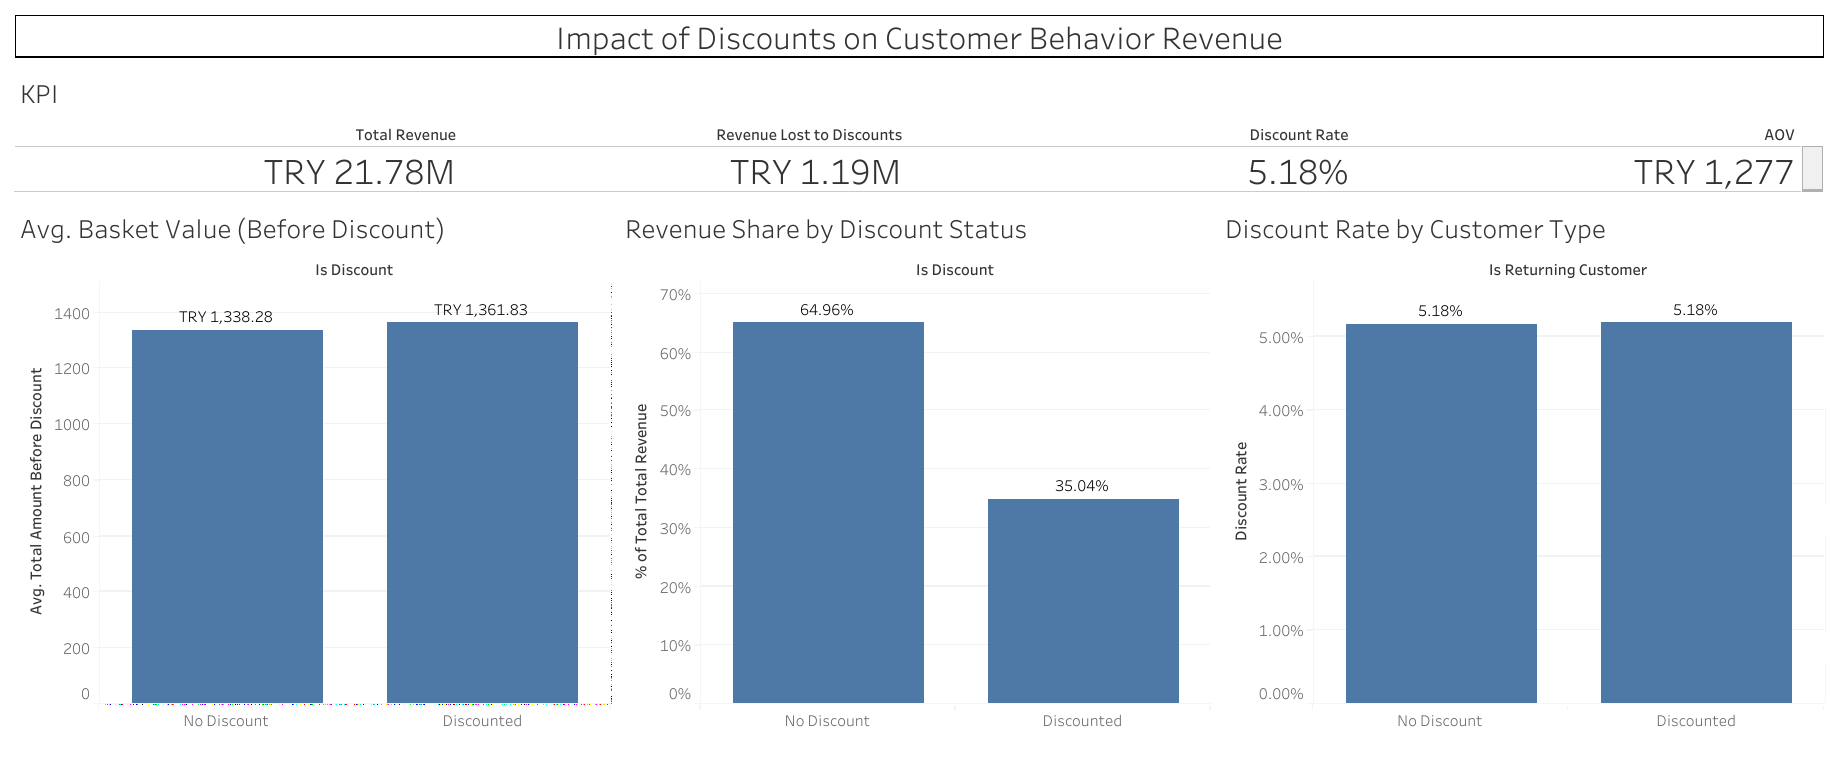

What the dashboard file says about the page in this screenshot:
{"tool":"tableau","page":{"name":"Impact of Discounts on Customer Behavior Revenue","canvas":[1000,1000],"units":"permille","ordinal":0},"visuals":[{"type":"title","box":[4.8,10,990.3,62.4]},{"type":"worksheet","title":"KPI","mark":"Automatic","box":[4.8,72.4,990.3,157.3]},{"type":"worksheet","title":"Avg. Basket Value (Before Discount)","mark":"Automatic","rows":["Total_Amount_Before_Discount"],"cols":["Is_Discount"],"box":[4.8,249.7,329.1,740.3]},{"type":"worksheet","title":"Revenue Share by Discount Status","mark":"Automatic","rows":["Total_Amount_After_Discount"],"cols":["Is_Discount"],"box":[333.9,249.7,326.7,740.3]},{"type":"worksheet","title":"Discount Rate by Customer Type","mark":"Automatic","rows":["Calculation_1573173361414147"],"cols":["Is_Returning_Customer"],"box":[660.6,249.7,334.5,740.3]}]}

Visuals, with their boxes on the dashboard's canvas, which has no fixed pixel size, in thousandths of its width and height (x1, y1, x2, y2). These are canvas units, not pixel positions in the 1838x768 screenshot, which may show the page scaled, cropped or inside an application window:
title: detection(5, 10, 995, 72)
"KPI" worksheet: detection(5, 72, 995, 230)
"Avg. Basket Value (Before Discount)" worksheet: detection(5, 250, 334, 990)
"Revenue Share by Discount Status" worksheet: detection(334, 250, 661, 990)
"Discount Rate by Customer Type" worksheet: detection(661, 250, 995, 990)
